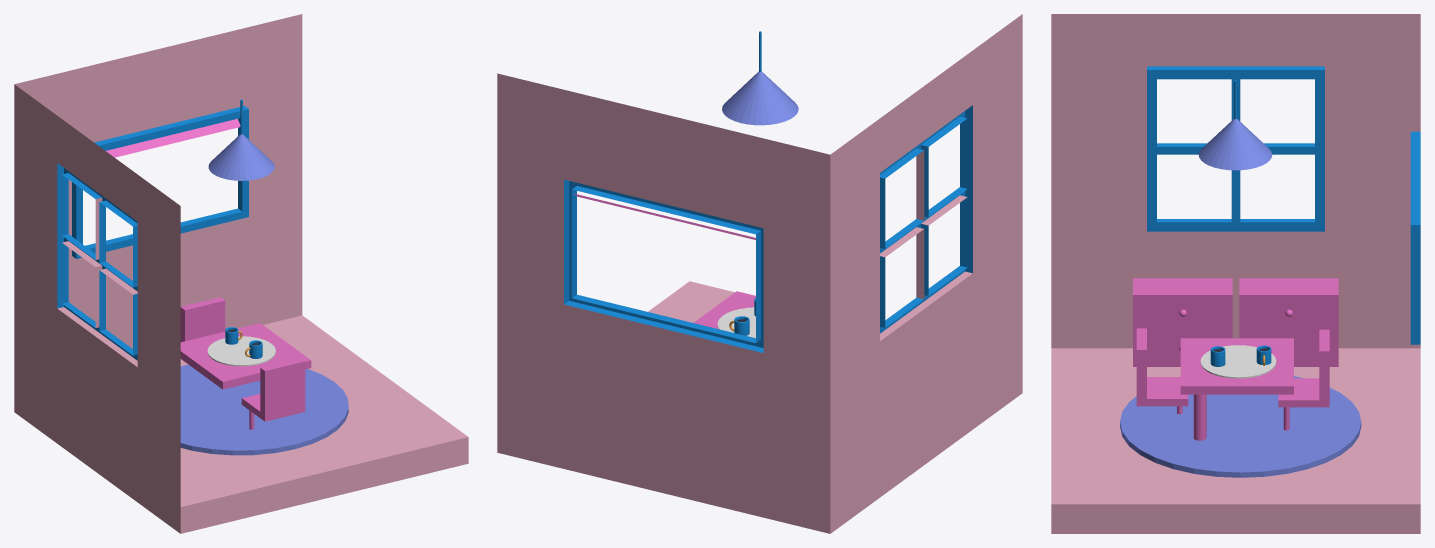
File: heya.glb
3 renders of one model, left to right at view 1: azimuth 30°, elevation 25°; view 2: azimuth 150°, elevation 25°; view 3: azimuth 270°, elevation 25°, orthographic. The views are drawn at different scales.
Visible parts, largest first — view 1: Cube, 円柱.002, 立方体, 立方体.006, 円錐, 立方体.001, 円柱.003, 平面; view 2: Cube, 円錐, 立方体, 円柱.003; view 3: Cube, 円柱.002, 立方体.005, 立方体.003, 立方体, 円錐, 立方体.006, 立方体.001, 立方体.002, 立方体.004, 円柱.003, 円柱.
Part boxes in pixels (x1,y1,x2,y2): Cube: (14,14,468,533); 円柱.002: (180,364,348,455); 立方体: (180,323,311,389); 立方体.006: (241,358,305,421); 円錐: (208,134,274,180); 立方体.001: (180,297,225,342); 円柱.003: (207,336,275,366); 平面: (106,119,240,157); Cube: (497,14,1022,533); 円錐: (722,71,798,125); 立方体: (694,291,755,328); 円柱.003: (717,307,755,338); Cube: (1051,14,1420,533); 円柱.002: (1120,376,1361,477); 立方体.005: (1239,278,1338,331); 立方体.003: (1133,278,1232,331); 立方体: (1180,338,1293,394); 円錐: (1198,119,1272,170); 立方体.006: (1136,328,1188,406); 立方体.001: (1278,329,1329,407); 立方体.002: (1133,331,1232,366); 立方体.004: (1239,331,1338,366); 円柱.003: (1200,345,1276,378); 円柱: (1193,394,1206,440).
Size of the model in its own units: 1.98 by 2.22 by 1.98.
